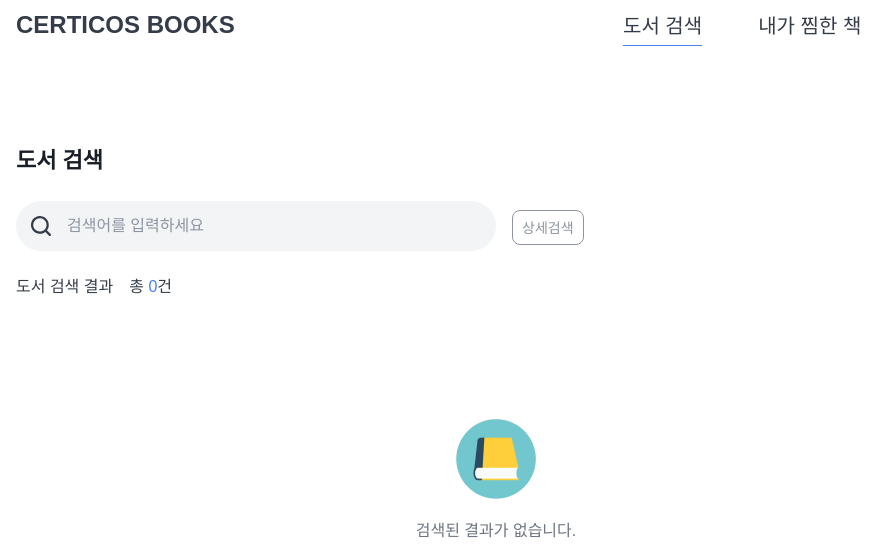
Test: 검색창 › 기록 목록을 닫은 뒤 검색창을 다시 누르면 다시 펼친다
The image size is (877, 555).
Click the dropdown labelled "검색어".
click(282, 226)  # box [67,201,496,251]
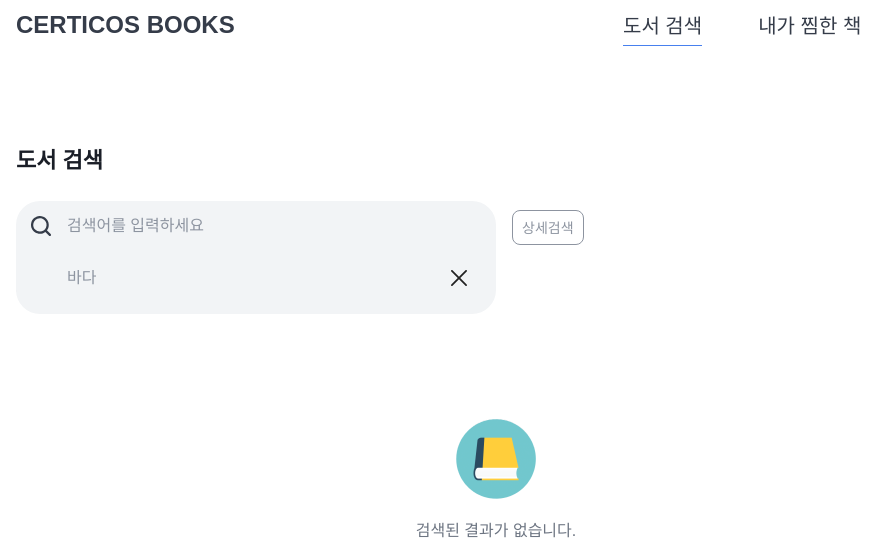
Press Escape
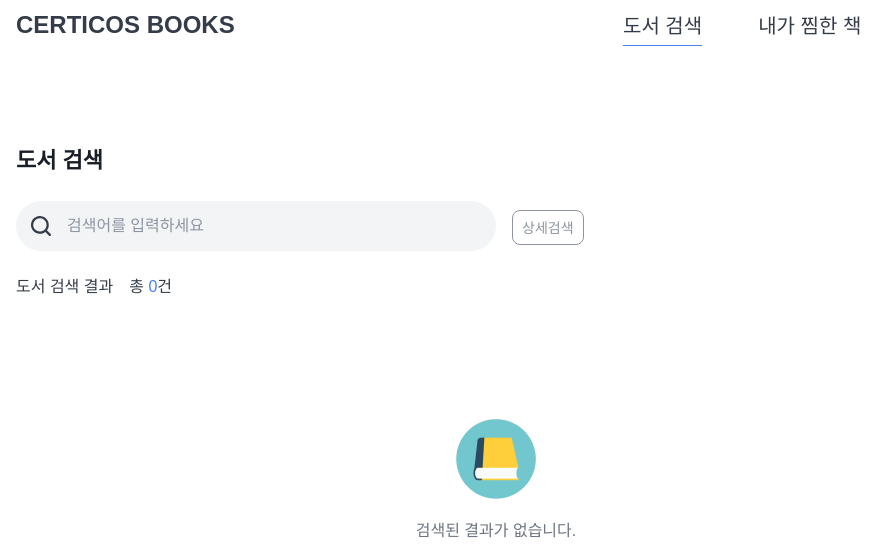
Click the dropdown labelled "검색어".
click(282, 226)  # box [67,201,496,251]
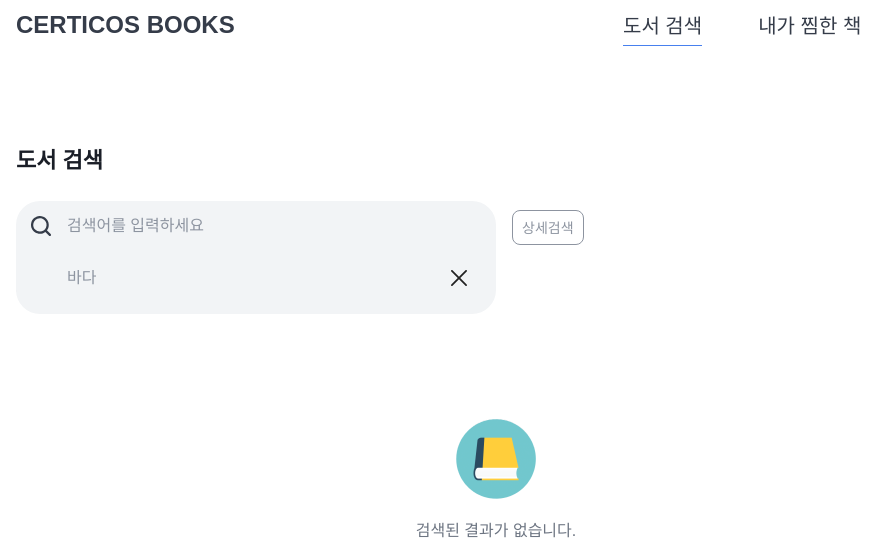
Check: the list named "최근 검색 기록" is shown, box [16,251,496,314]
